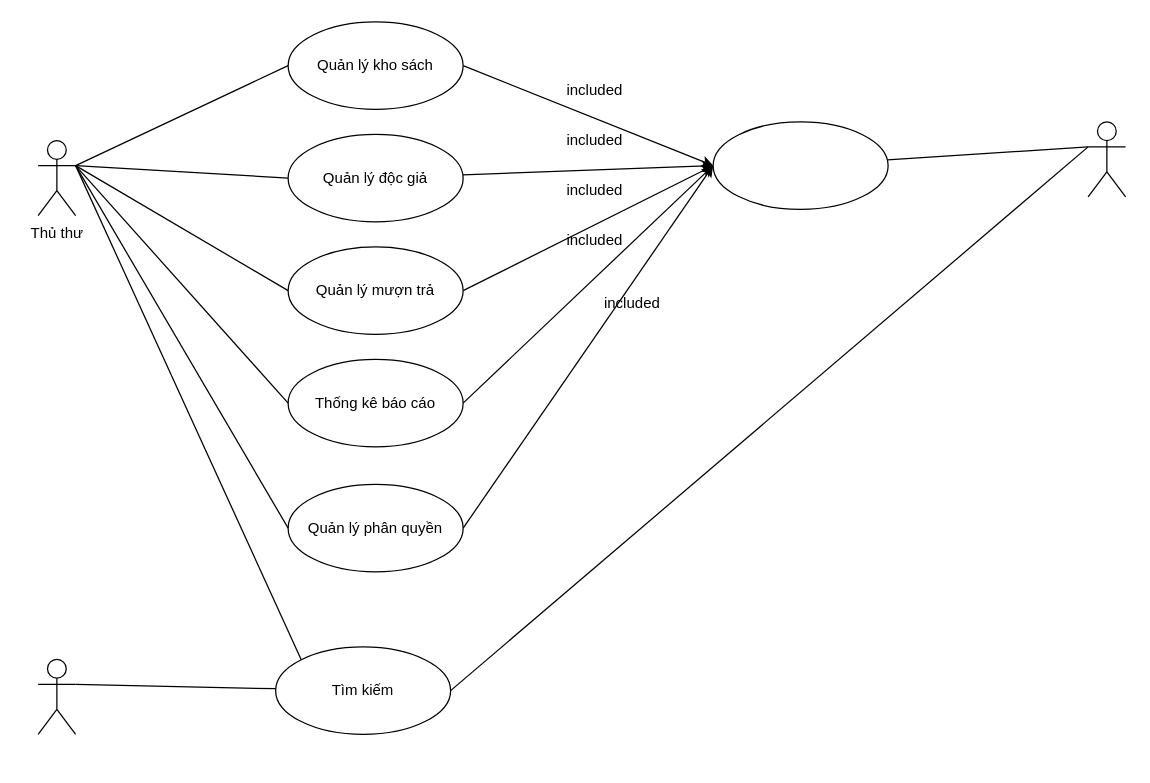
This 1150x783 diagram has some shape labels left out. Here are the shapes that lost their labels. From the top down, the box of each, then its label:
(712, 121, 888, 209): Đăng nhập
(1087, 121, 1126, 197): Admin
(37, 658, 76, 734): Người đọc
